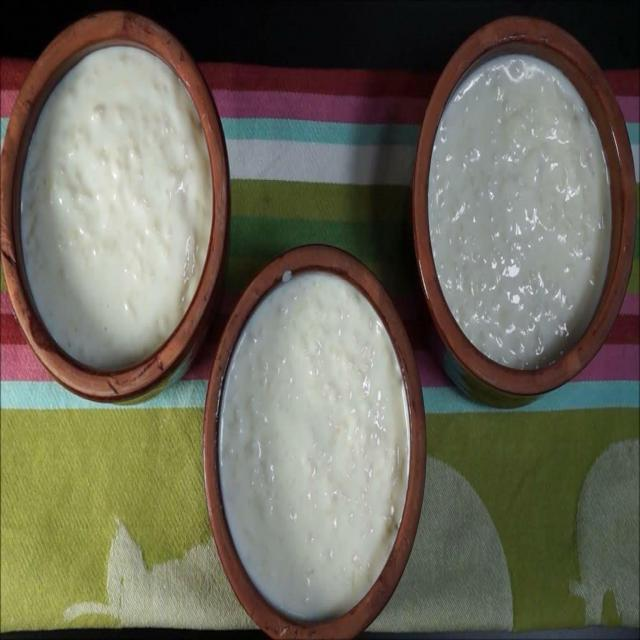roz blabn: (216, 264, 412, 627), (422, 32, 624, 376), (16, 42, 216, 378)
